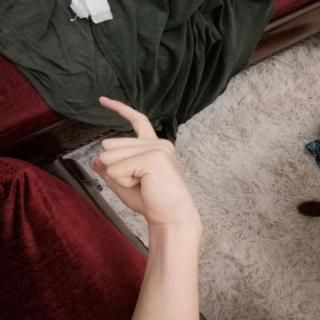RAA: (82, 90, 205, 227)
